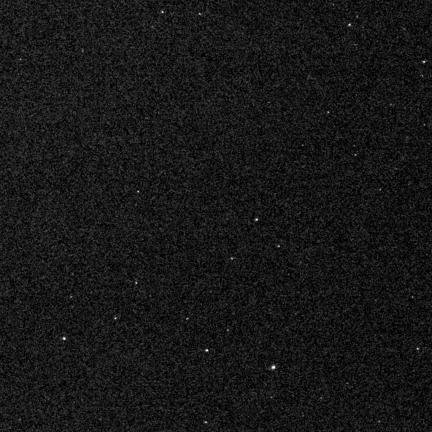blob: (205, 349, 209, 353), (255, 218, 259, 222), (63, 337, 66, 340)
